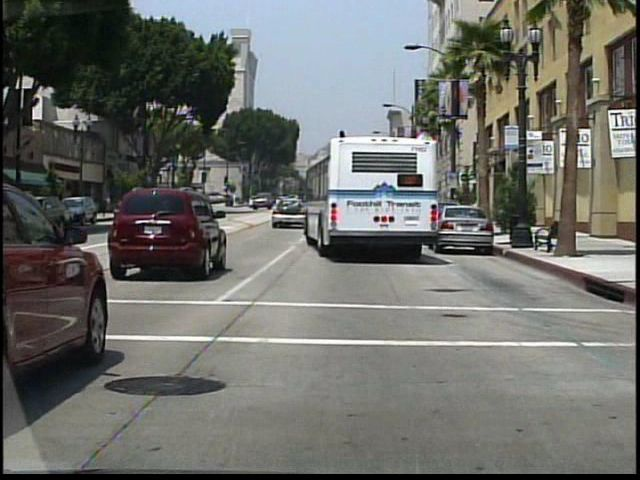person: (455, 189, 468, 228)
